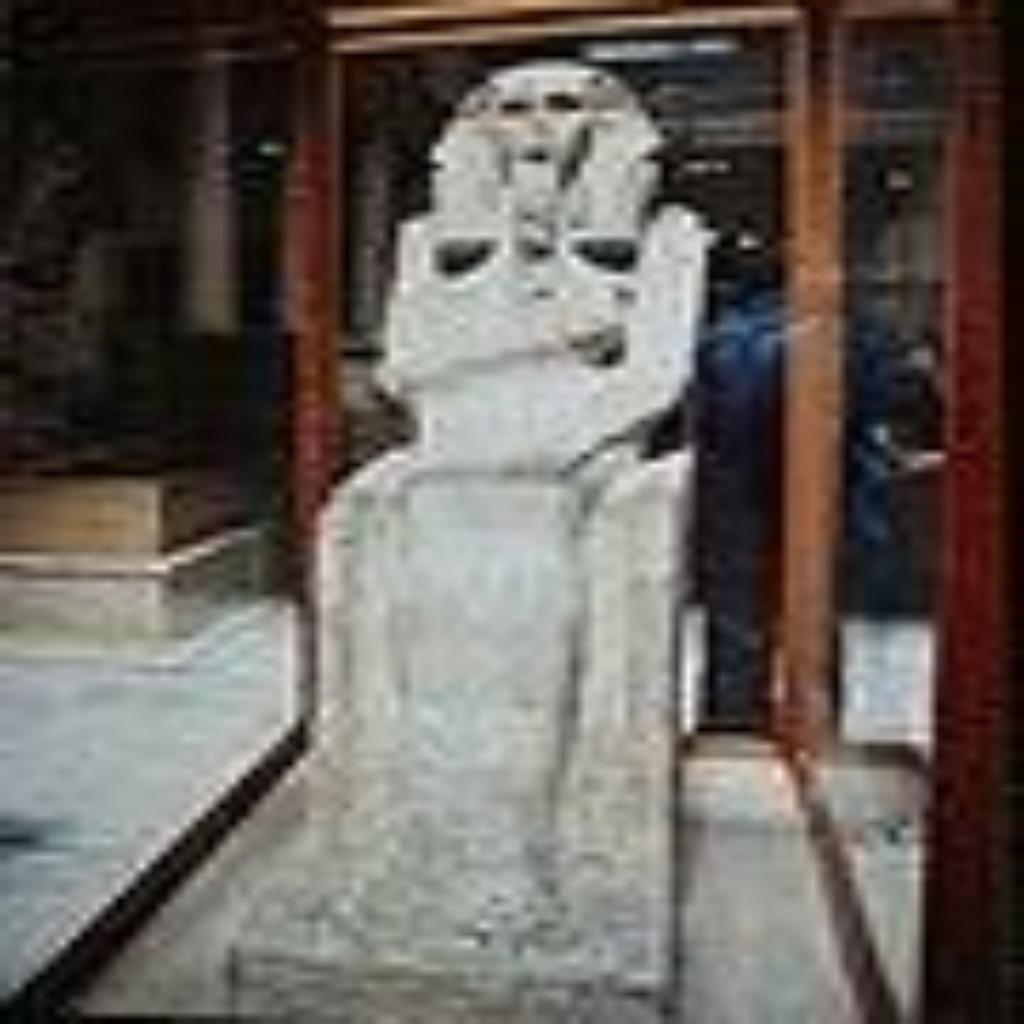Statue of King Zoser: (216, 52, 728, 1016)
